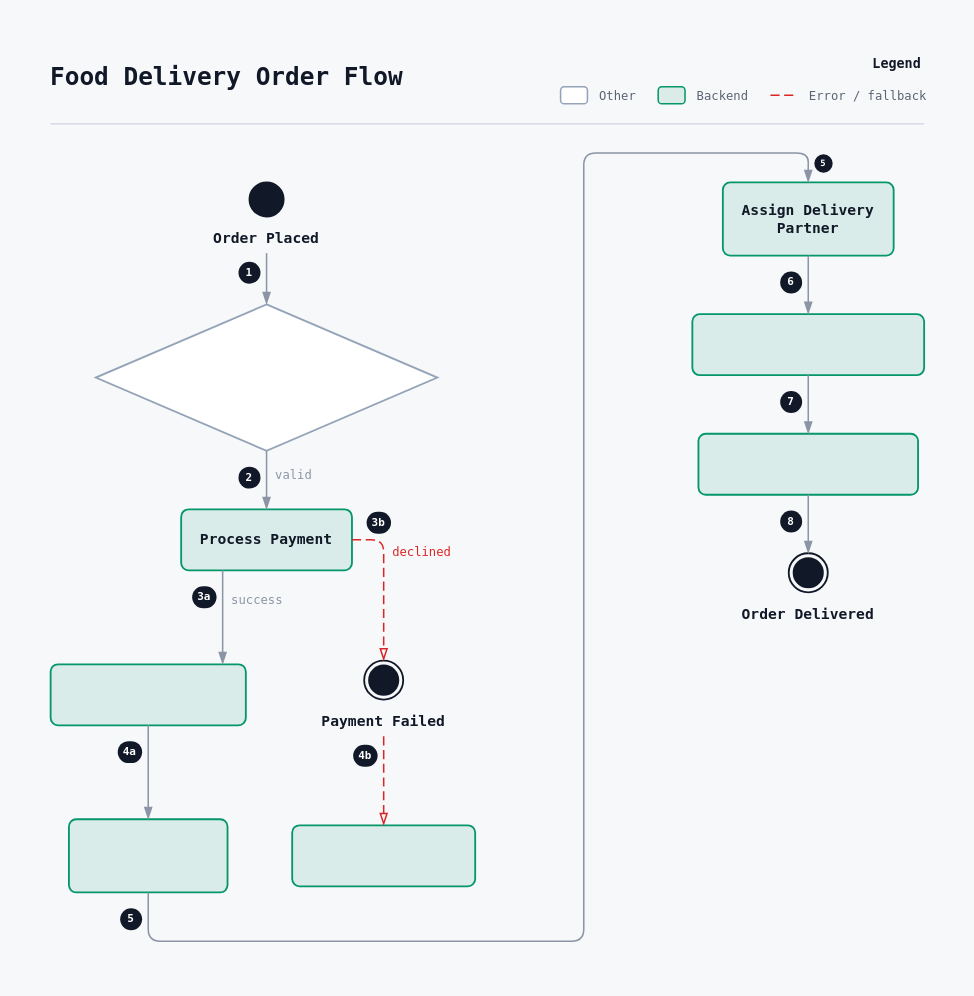
Some shapes in this 974 by 996 pixel diagram are drawn without their labels. The box of each missing label's shape, as (x1, y1, x2, y2) in pixels:
En Route to Customer: (697, 432, 918, 495)
Notify Restaurant: (49, 663, 246, 726)
Partner Picks Up Order: (691, 313, 925, 376)
Refund Initiated: (291, 824, 476, 887)
Restaurant Prepares Order: (67, 818, 228, 893)
Validate Cart & Address: (94, 303, 438, 451)
